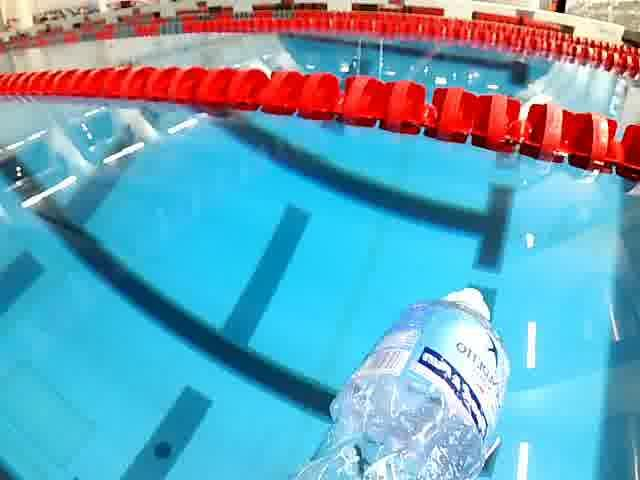Bottle: (294, 280, 517, 480)
